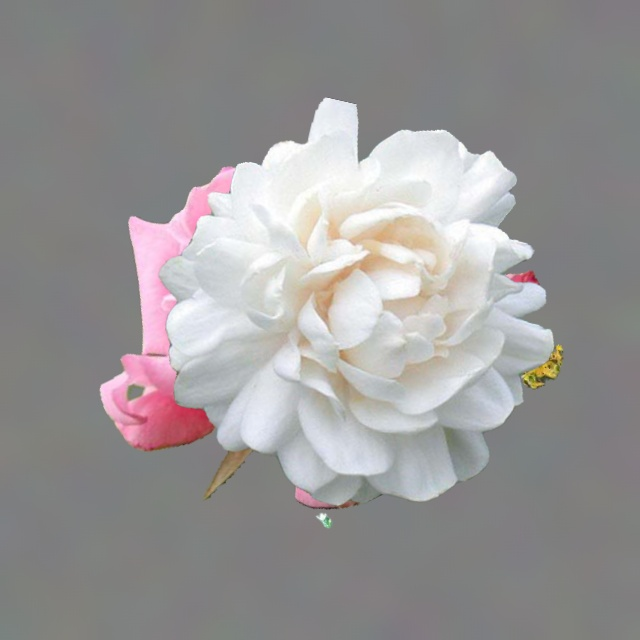jasmine: (159, 97, 553, 505), (316, 513, 331, 528)
rose: (100, 144, 539, 508)
ylang-ylang: (521, 345, 562, 388)
